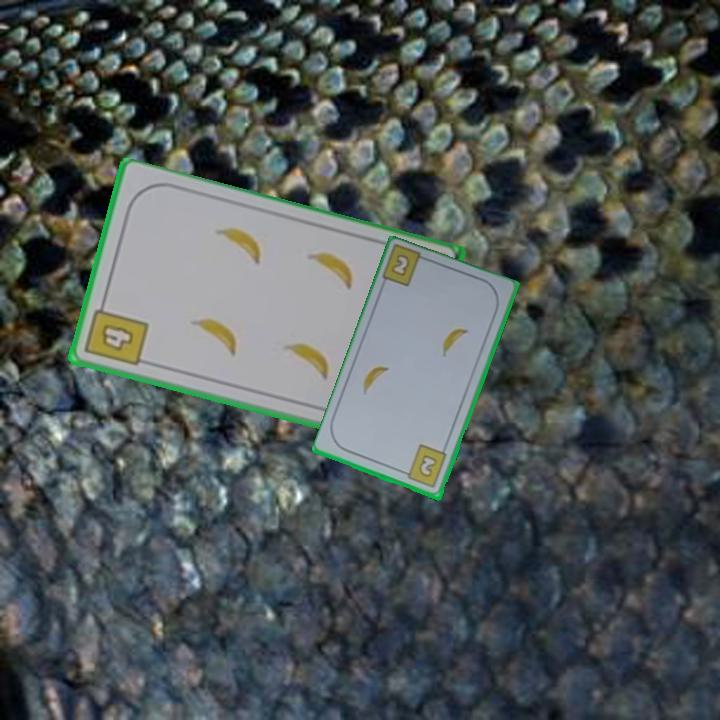2b: (399, 442, 450, 491), (388, 251, 413, 280)
4b: (81, 296, 152, 369)
